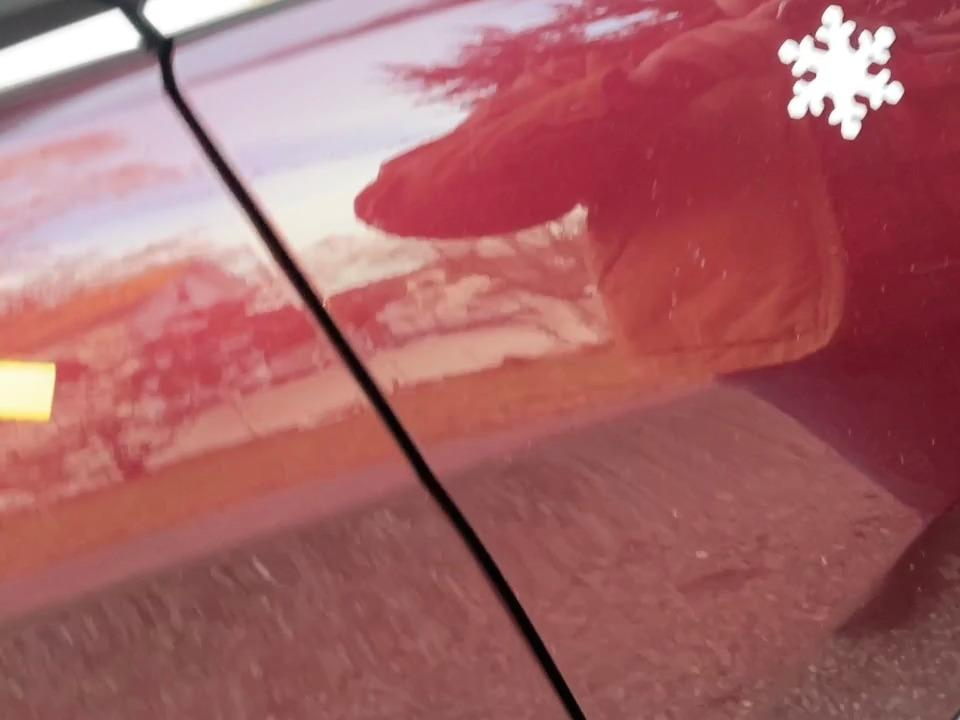dent: (741, 0, 938, 161)
